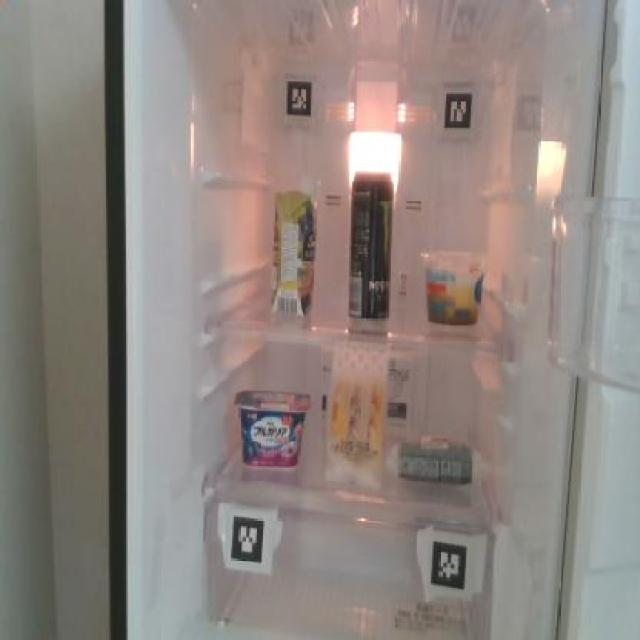energy_drink: (346, 166, 394, 323)
pudding: (422, 248, 486, 326)
rice_ball: (391, 432, 483, 491)
sandwich: (325, 346, 387, 491)
smoothie: (270, 177, 319, 318)
yogurt: (230, 387, 312, 468)
